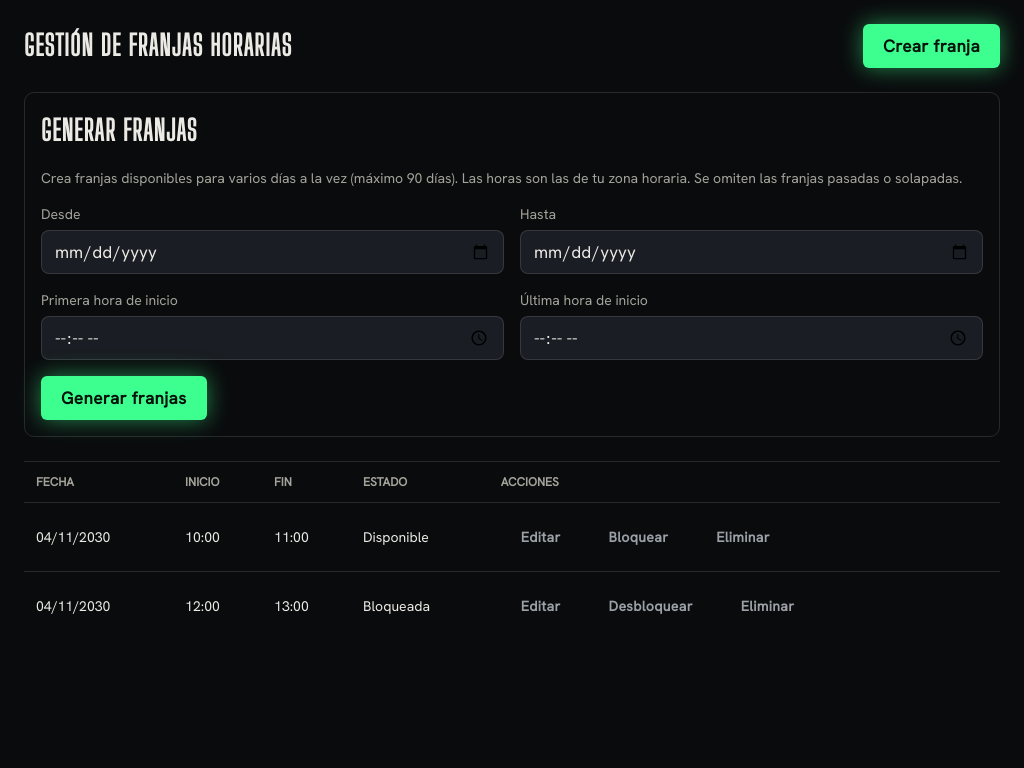
Scenario: AdminSlotsPage › bloquea y desbloquea una franja
Expected: the text "10:00" is shown, [173,503,262,572]
Click the button "Bloquear" at (638, 537), box [588,515,688,559]
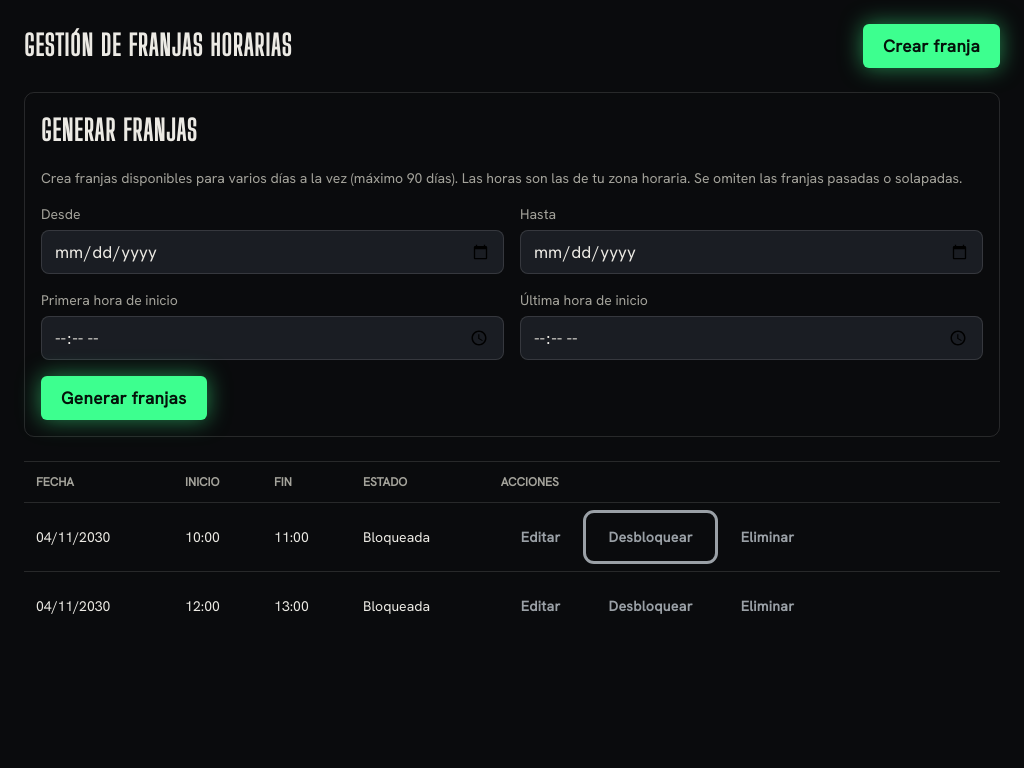
Expected: the button "Desbloquear" in the row of "10:00" is shown
Expected: the text "Bloqueada" in the row of "10:00" is shown, [363,528,430,546]
Click the button "Desbloquear" in the row of "10:00" at (651, 537), box [588,515,713,559]
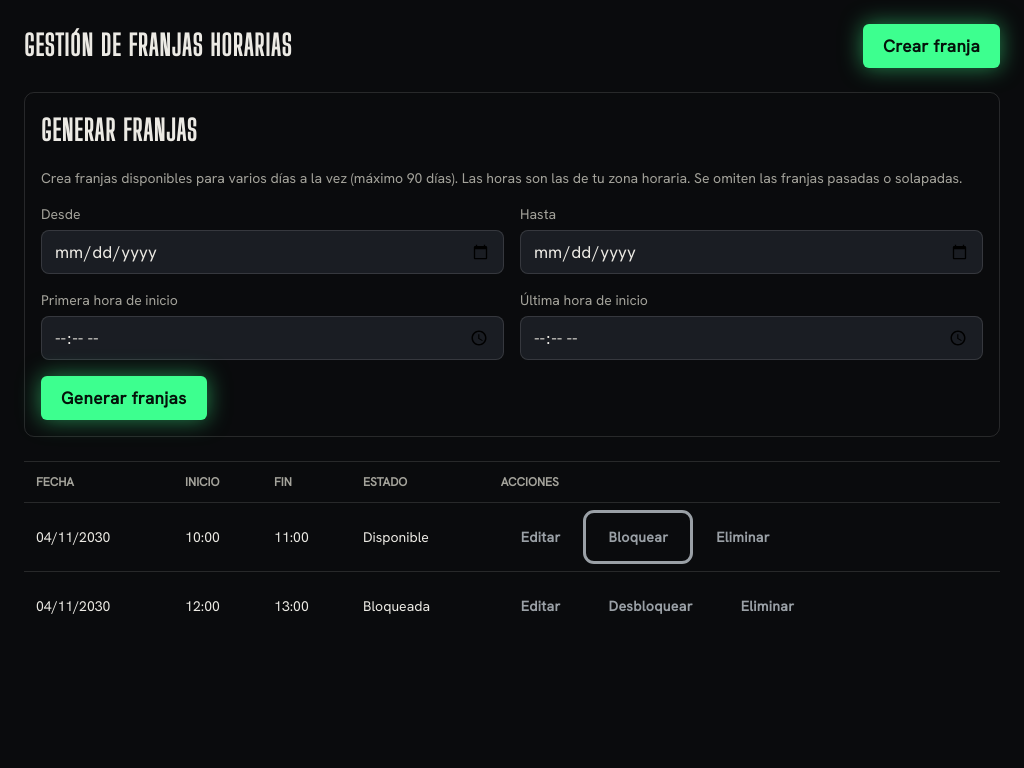
Expected: the button "Bloquear" is shown, [588,515,688,559]
Expected: the text "Disponible" is shown, [351,503,489,572]
